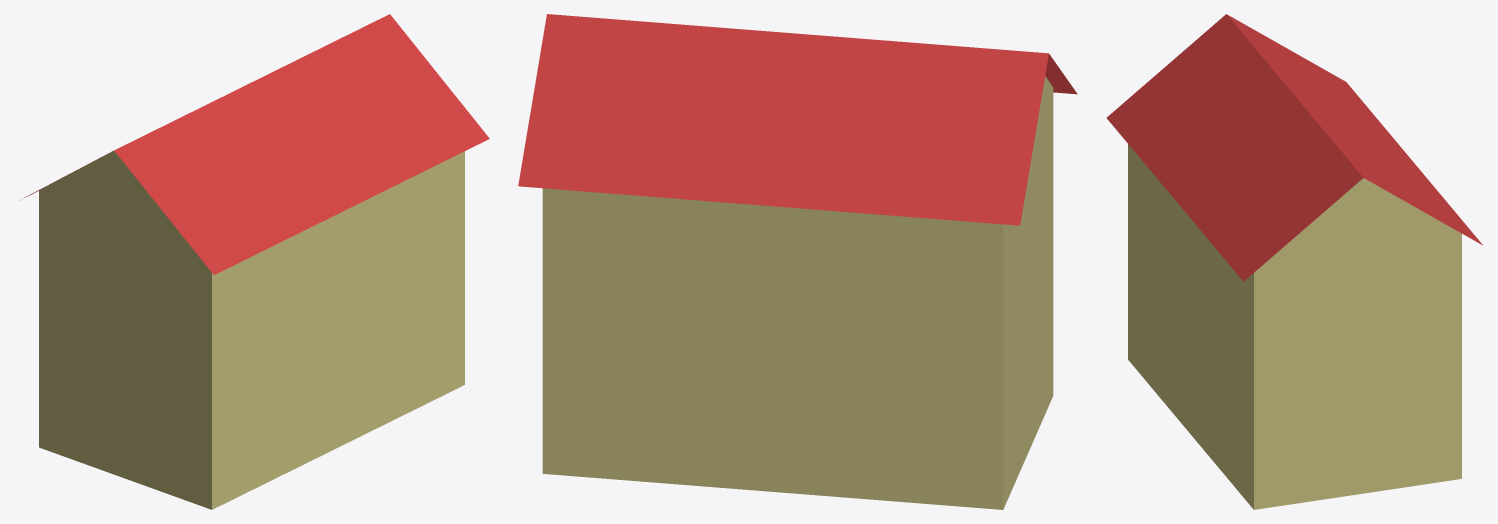
3 views of the same model, side by side, from view 1: azimuth 30°, elevation 25°; view 2: azimuth 150°, elevation 25°; view 3: azimuth 270°, elevation 25° (orthographic). The views are drawn at different scales.
Visible parts, largest first — view 1: group_5, group_3, group_4; view 2: group_5, group_3; view 3: group_5, group_3, group_4.
Part boxes in pixels (bbox=[...]): group_5: bbox=[39, 151, 464, 509]; group_3: bbox=[125, 14, 489, 274]; group_4: bbox=[19, 17, 489, 274]; group_5: bbox=[542, 76, 1053, 509]; group_3: bbox=[518, 14, 1077, 225]; group_5: bbox=[1128, 144, 1461, 509]; group_3: bbox=[1128, 14, 1482, 281]; group_4: bbox=[1106, 14, 1383, 280].
Size of the model in its own units: 20.84 by 16.63 by 15.73.
